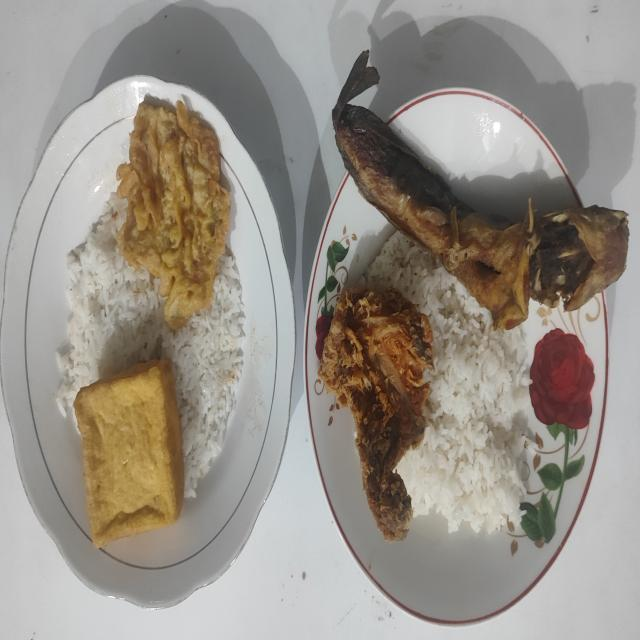nasi_putih: (56, 192, 246, 498), (362, 232, 530, 534)
tahu_goreng: (74, 360, 184, 547)
